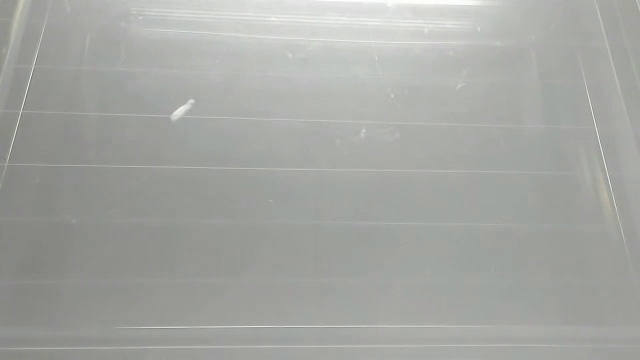alpha: (167, 96, 199, 124)
